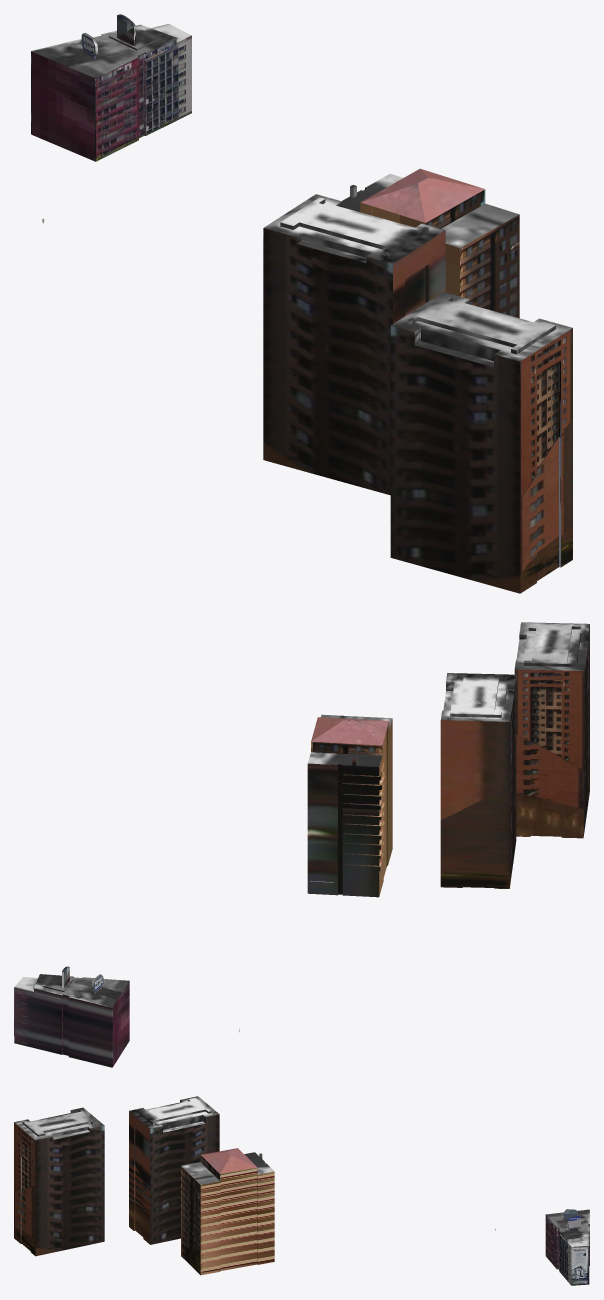
File: torres_alameda.glb
3 renders of one model, top to bottom at view 1: azimuth 30°, elevation 25°; view 2: azimuth 150°, elevation 25°; view 3: azimuth 270°, elevation 25°, orthographic. The views are drawn at different scales.
Visible parts, largest first — view 1: torres_alameda; view 2: torres_alameda; view 3: torres_alameda.
Part boxes in pixels (x1=…): torres_alameda: x1=31, y1=14, x2=572, y2=593; torres_alameda: x1=14, y1=622, x2=589, y2=1067; torres_alameda: x1=14, y1=1096, x2=589, y2=1285.
Bounding box in the file's own units: 108 × 86.25 × 356.
57 materials, 48 textured.
